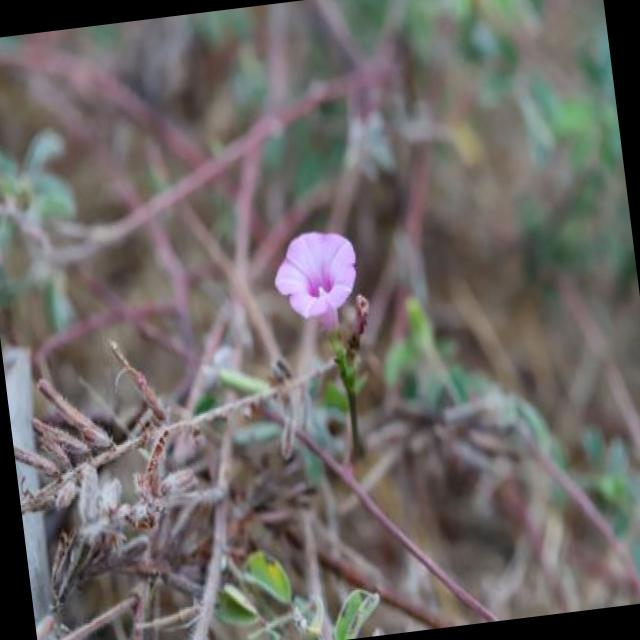ipomoea: (265, 220, 369, 342)
